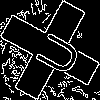U: (25, 25, 84, 79)
